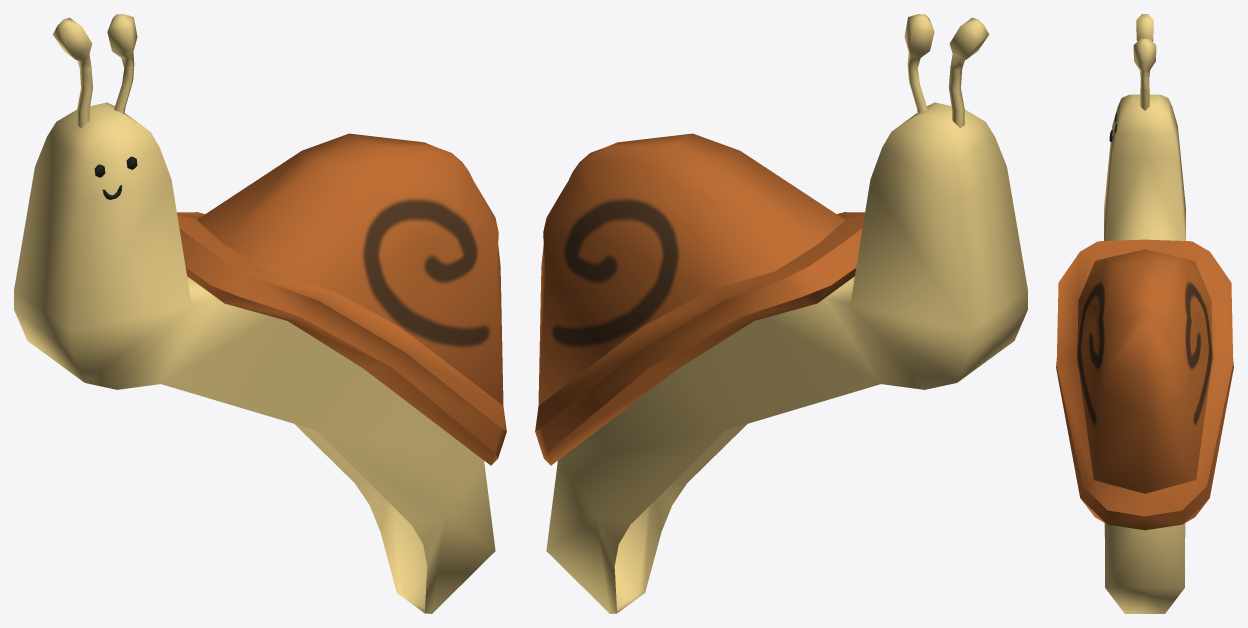
File: Hat_Snail.fbx
The picture shows the model from 3 angles, left to right: view 1: azimuth 30°, elevation 25°; view 2: azimuth 150°, elevation 25°; view 3: azimuth 270°, elevation 25°; orthographic projection. The views are drawn at different scales.
Visible parts, largest first — view 1: Snail, SnailShell; view 2: Snail, SnailShell; view 3: SnailShell, Snail.
Boxes of the visible parts, box(x1,y1,x2,y2) form: Snail: box(14, 14, 495, 613); SnailShell: box(177, 133, 506, 465); Snail: box(546, 14, 1027, 613); SnailShell: box(535, 133, 864, 465); SnailShell: box(1056, 239, 1233, 530); Snail: box(1104, 14, 1185, 613).
Bounding box in the file's own units: 60.5 × 84.44 × 28.51.
